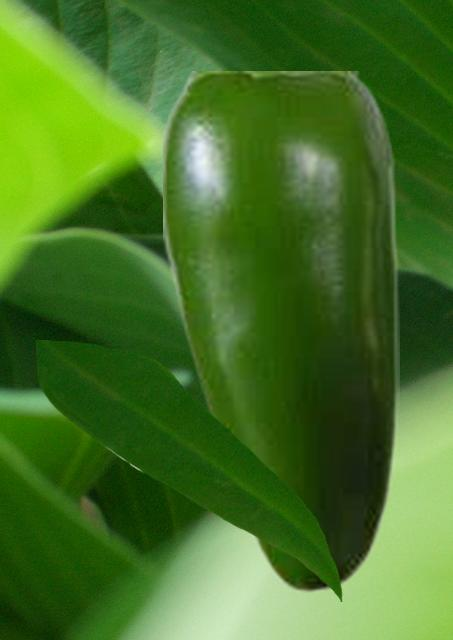green_chili: (163, 71, 398, 593)
